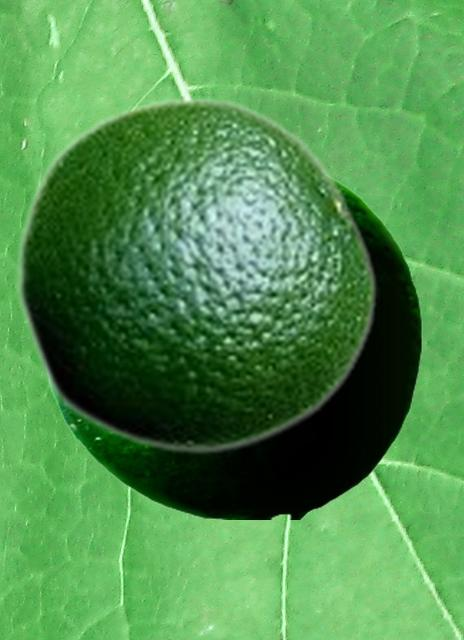calamansi: (14, 95, 378, 455), (47, 175, 421, 518)
